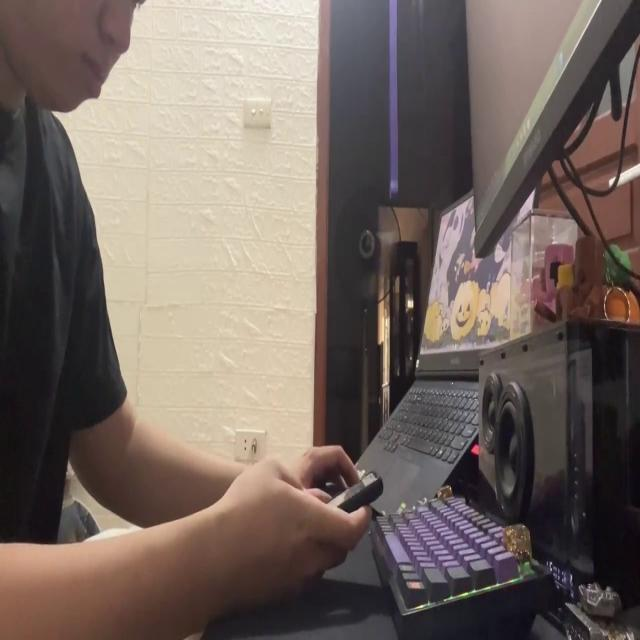laptop: (345, 165, 545, 520), (460, 0, 639, 252)
phone: (323, 462, 382, 526)
student: (0, 0, 384, 633)
